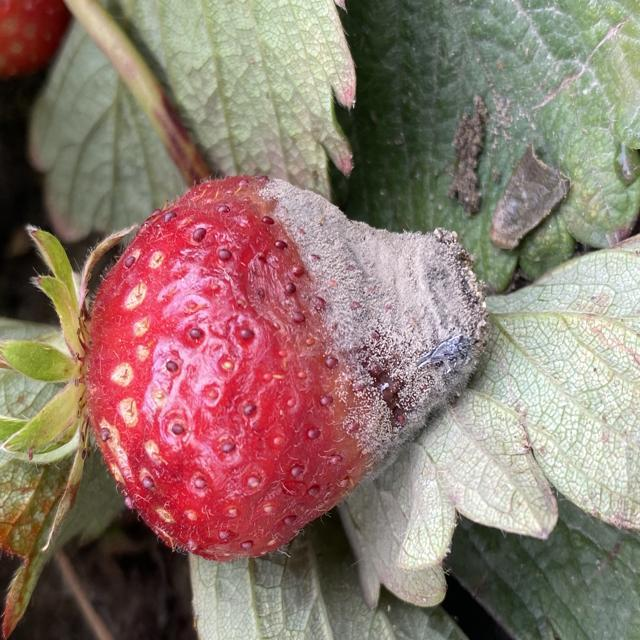Botrytis: (79, 183, 490, 563)
